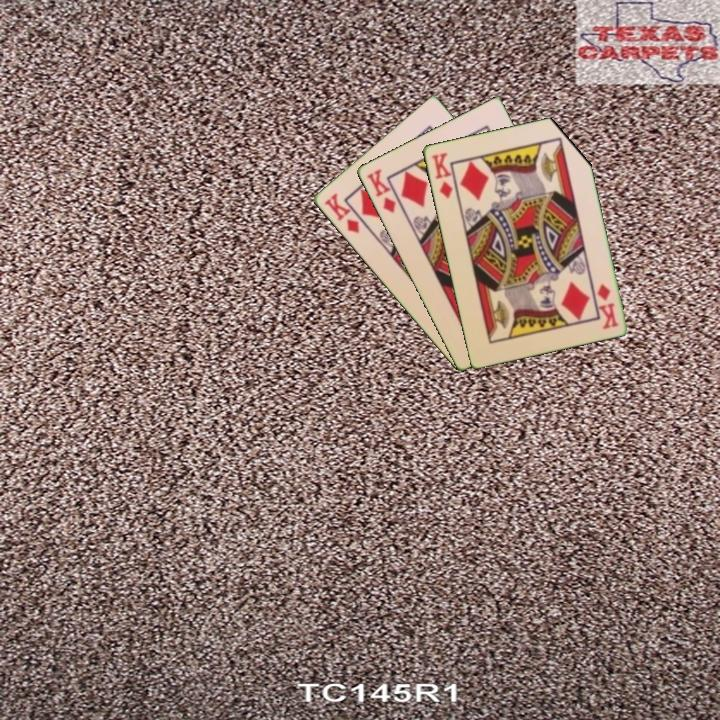Kd: (320, 189, 362, 236), (363, 165, 398, 216), (593, 280, 621, 331), (428, 149, 455, 201)
